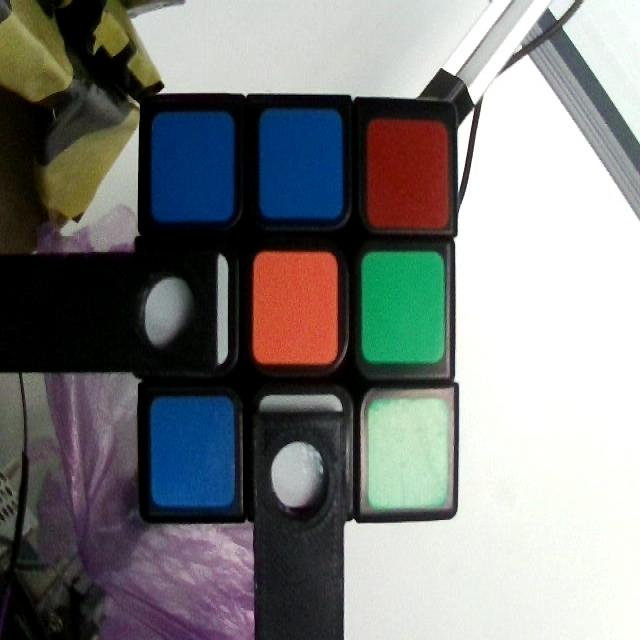b: (154, 398, 234, 506), (156, 113, 231, 224), (259, 106, 337, 206)
g: (364, 250, 445, 362), (369, 401, 449, 507)
o: (253, 256, 341, 360)
r: (367, 117, 448, 224)
w: (146, 256, 229, 364), (261, 395, 341, 501)
